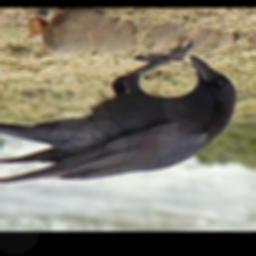Crow: (0, 37, 238, 184)
